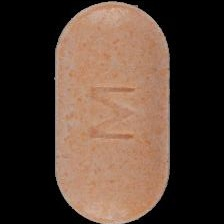54868-3388: (0, 0, 224, 224)
